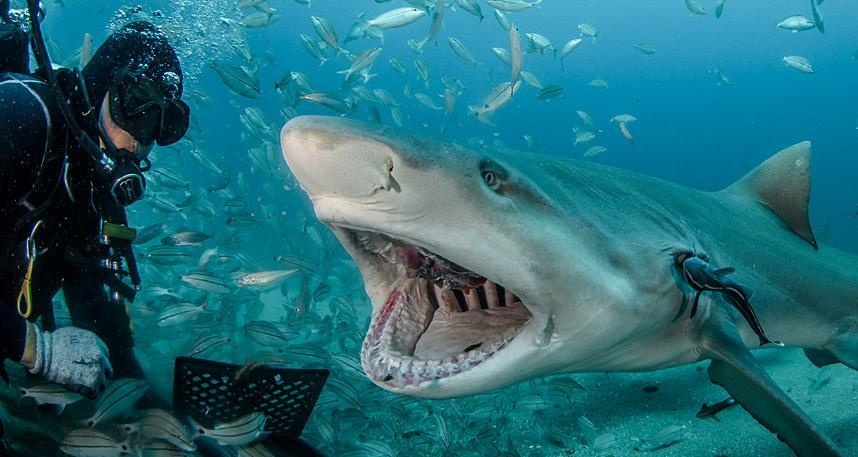fish: (272, 112, 858, 388)
